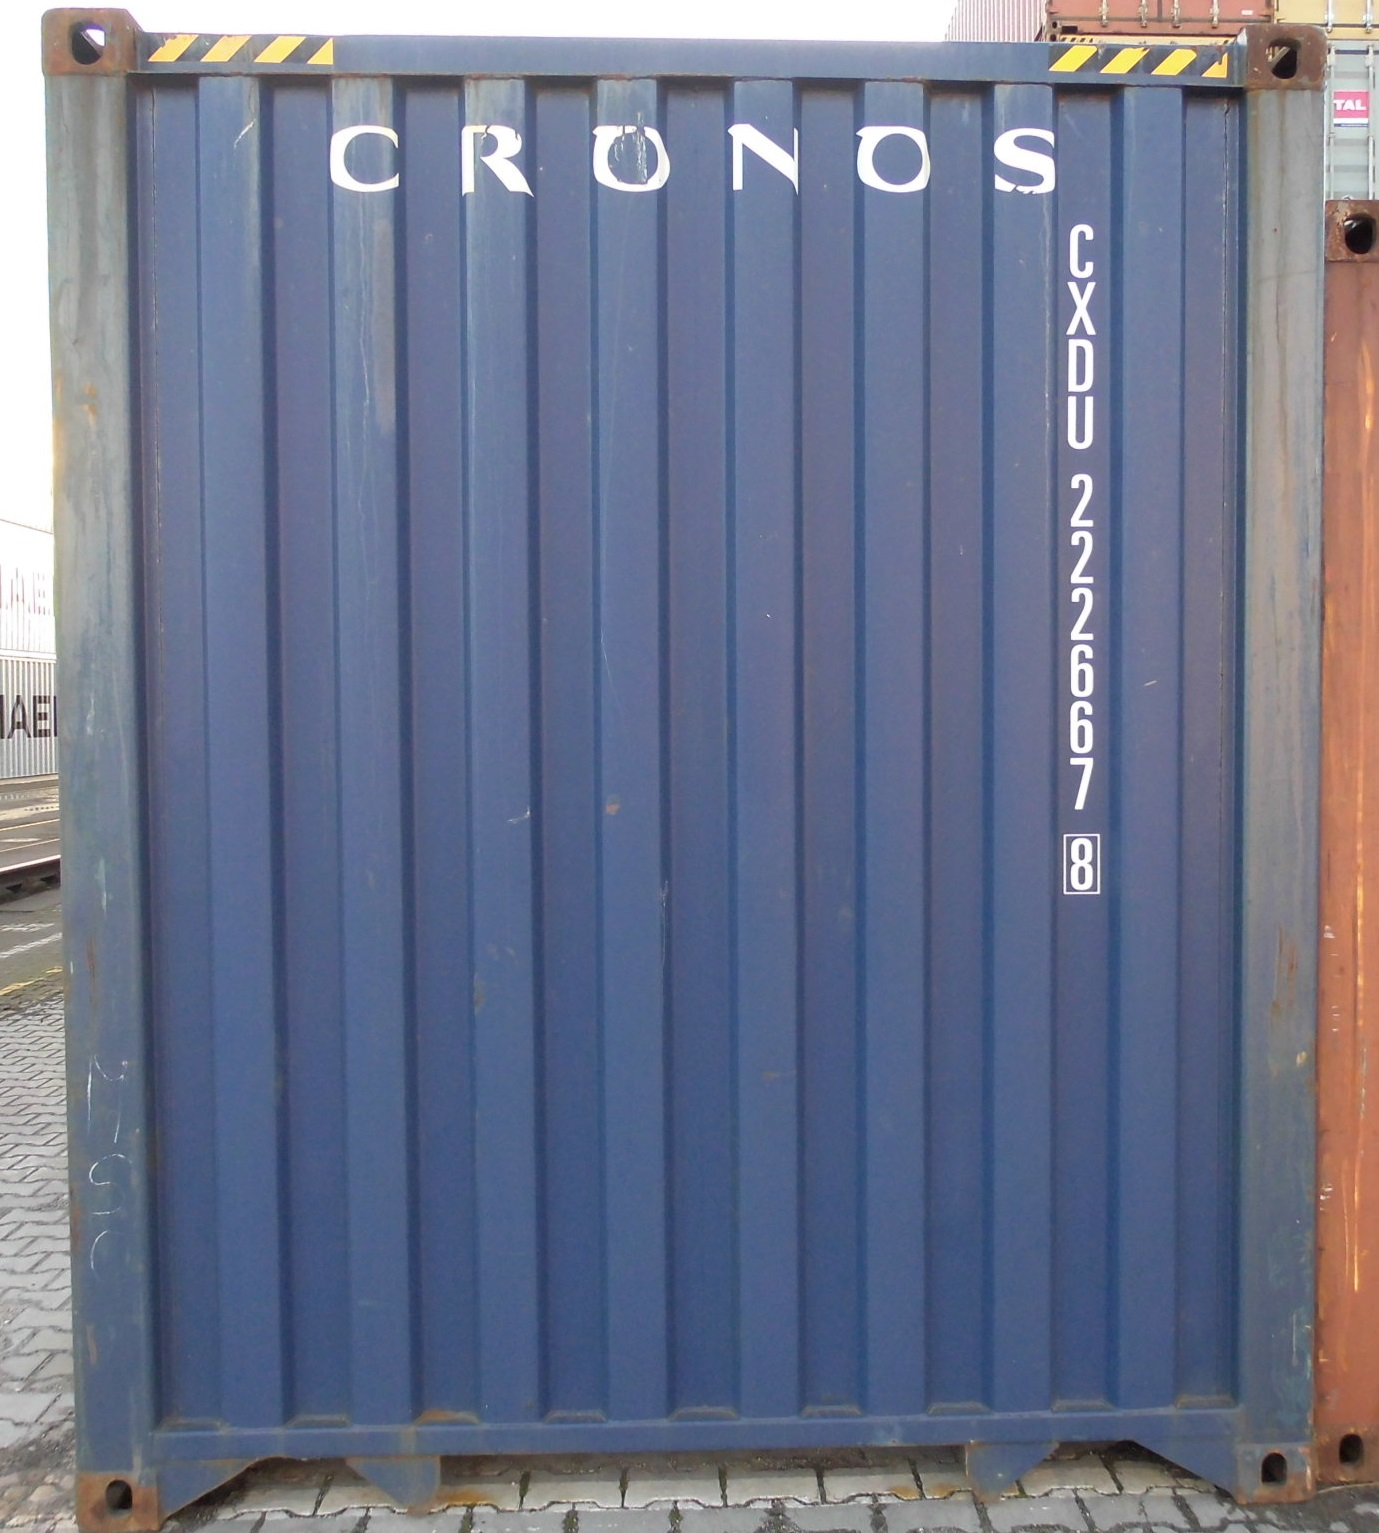container_no_door: (55, 11, 1320, 1525)
